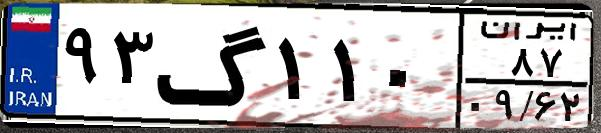0: (385, 28, 445, 110), (470, 70, 495, 125)
1: (270, 28, 330, 110), (330, 28, 385, 110)
2: (560, 70, 590, 125)
3: (110, 28, 156, 98)
6: (535, 70, 560, 125)
7: (537, 27, 568, 80)
8: (508, 27, 537, 80)
9: (57, 26, 110, 100), (495, 70, 520, 125)
گ: (156, 12, 270, 120)
